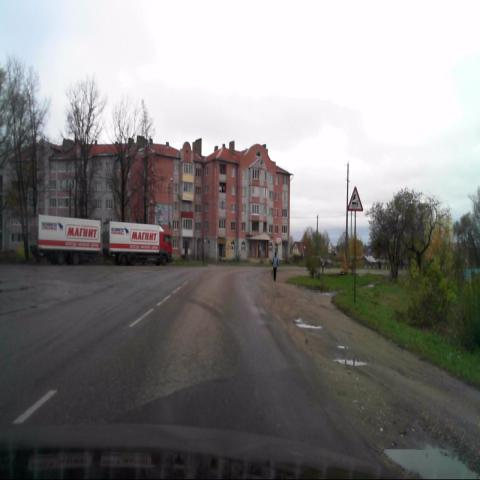1_2: (347, 185, 364, 211)
